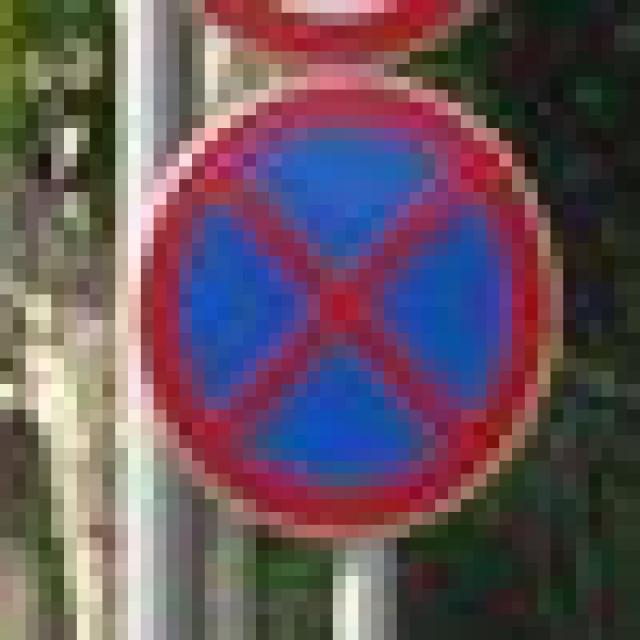NO_STOPPING_OR_STANDING: (115, 64, 550, 512)
